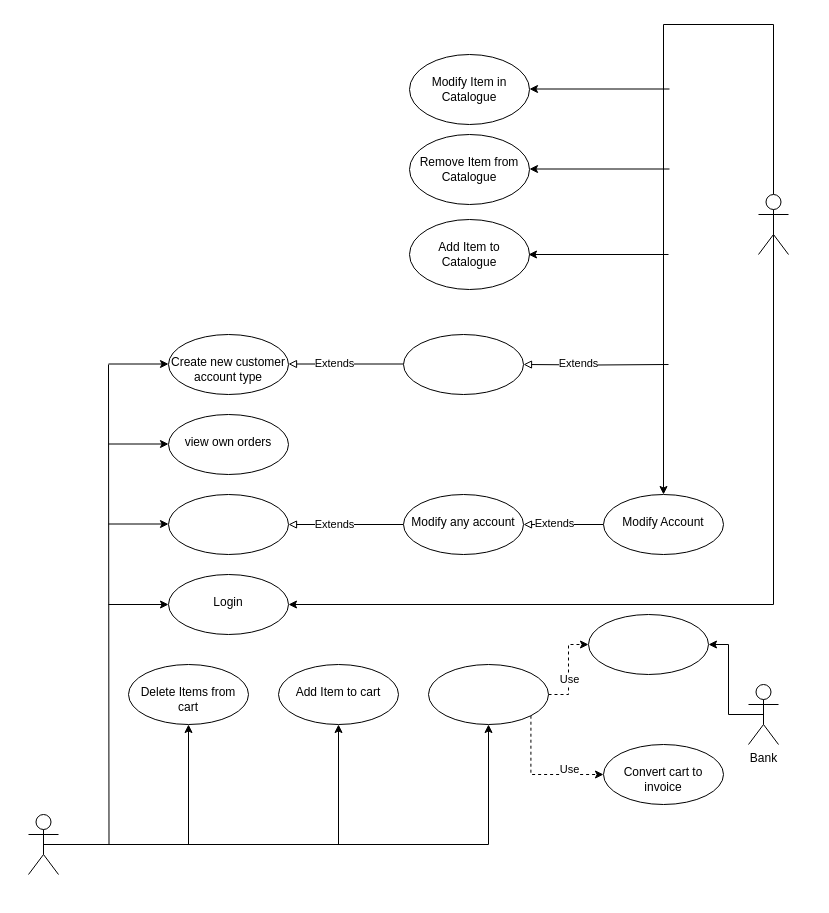
The diagram is 829 pixels wide and 913 high, and some of its shapes have lost their labels. The shapes that lost their labels are listed below. From the top down, each one's centre as x and y in pixels, then its label:
At [773,224]: "Owner(Admin)".
At [463,364]: "Create any account type".
At [228,524]: "Modify own account".
At [648,644]: "Transferring money".
At [488,694]: "Purchase Items in cart".
At [43,844]: "Customer".
